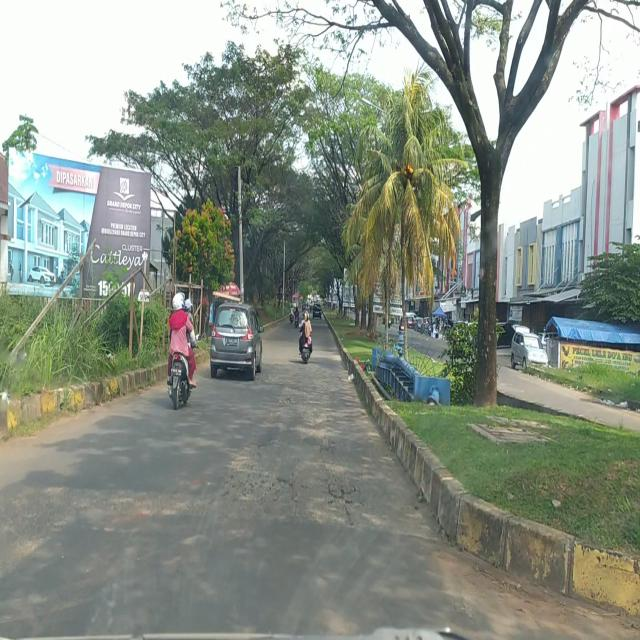Drain Hole: (228, 449, 360, 527)
